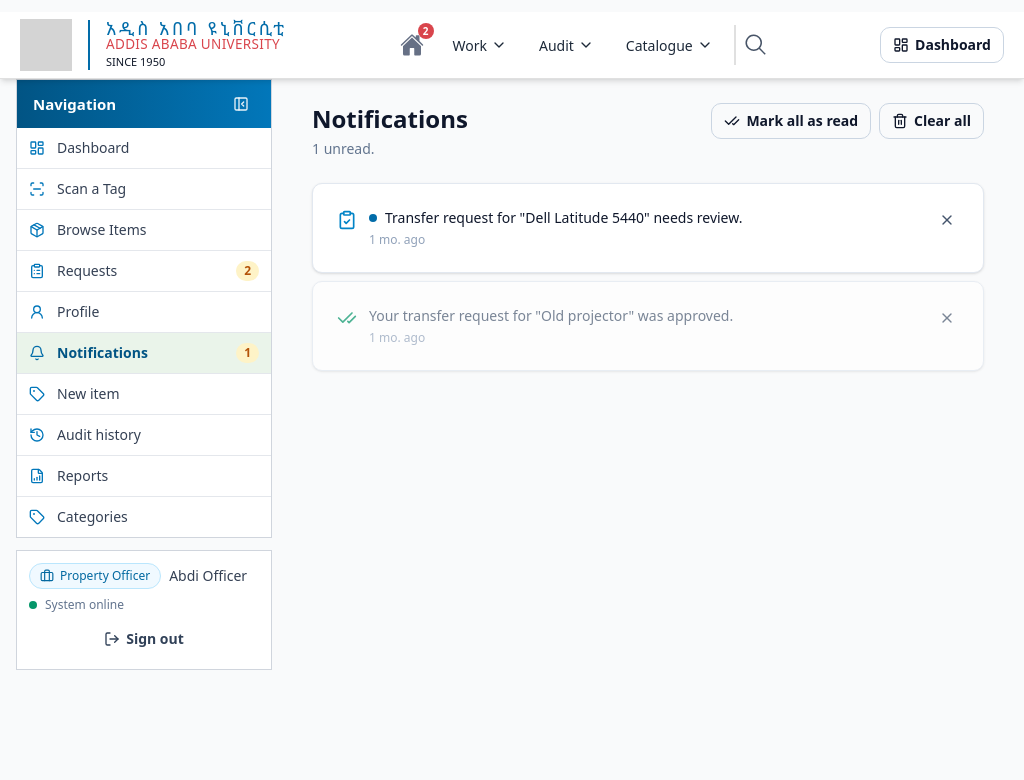
Test: /notifications — dismiss one › takes that message out of the list and leaves the other standing
Check: the heading "Notifications" is shown, box [312, 103, 468, 135]
Check: the text "Transfer request for \"Dell Latitude 5440\" needs review." is shown, box [385, 208, 742, 228]
The label carries the message, so this cannot be the other row's X.
Click the button named "Remove notification: Transfer request for \"Dell Latitude 544". click: (947, 220)
box: [929, 202, 965, 238]
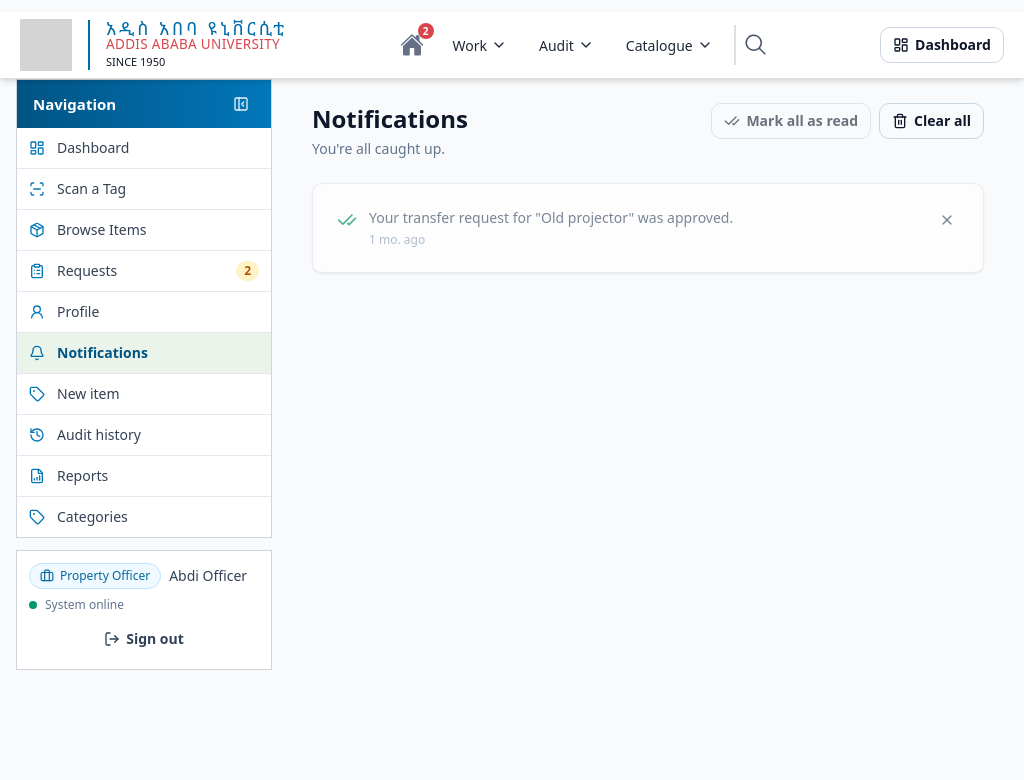
Check: the link "needs review" is gone
Check: the text "You're all caught up." is shown, box [312, 139, 468, 159]
Check: the text labelled "unread" is gone
